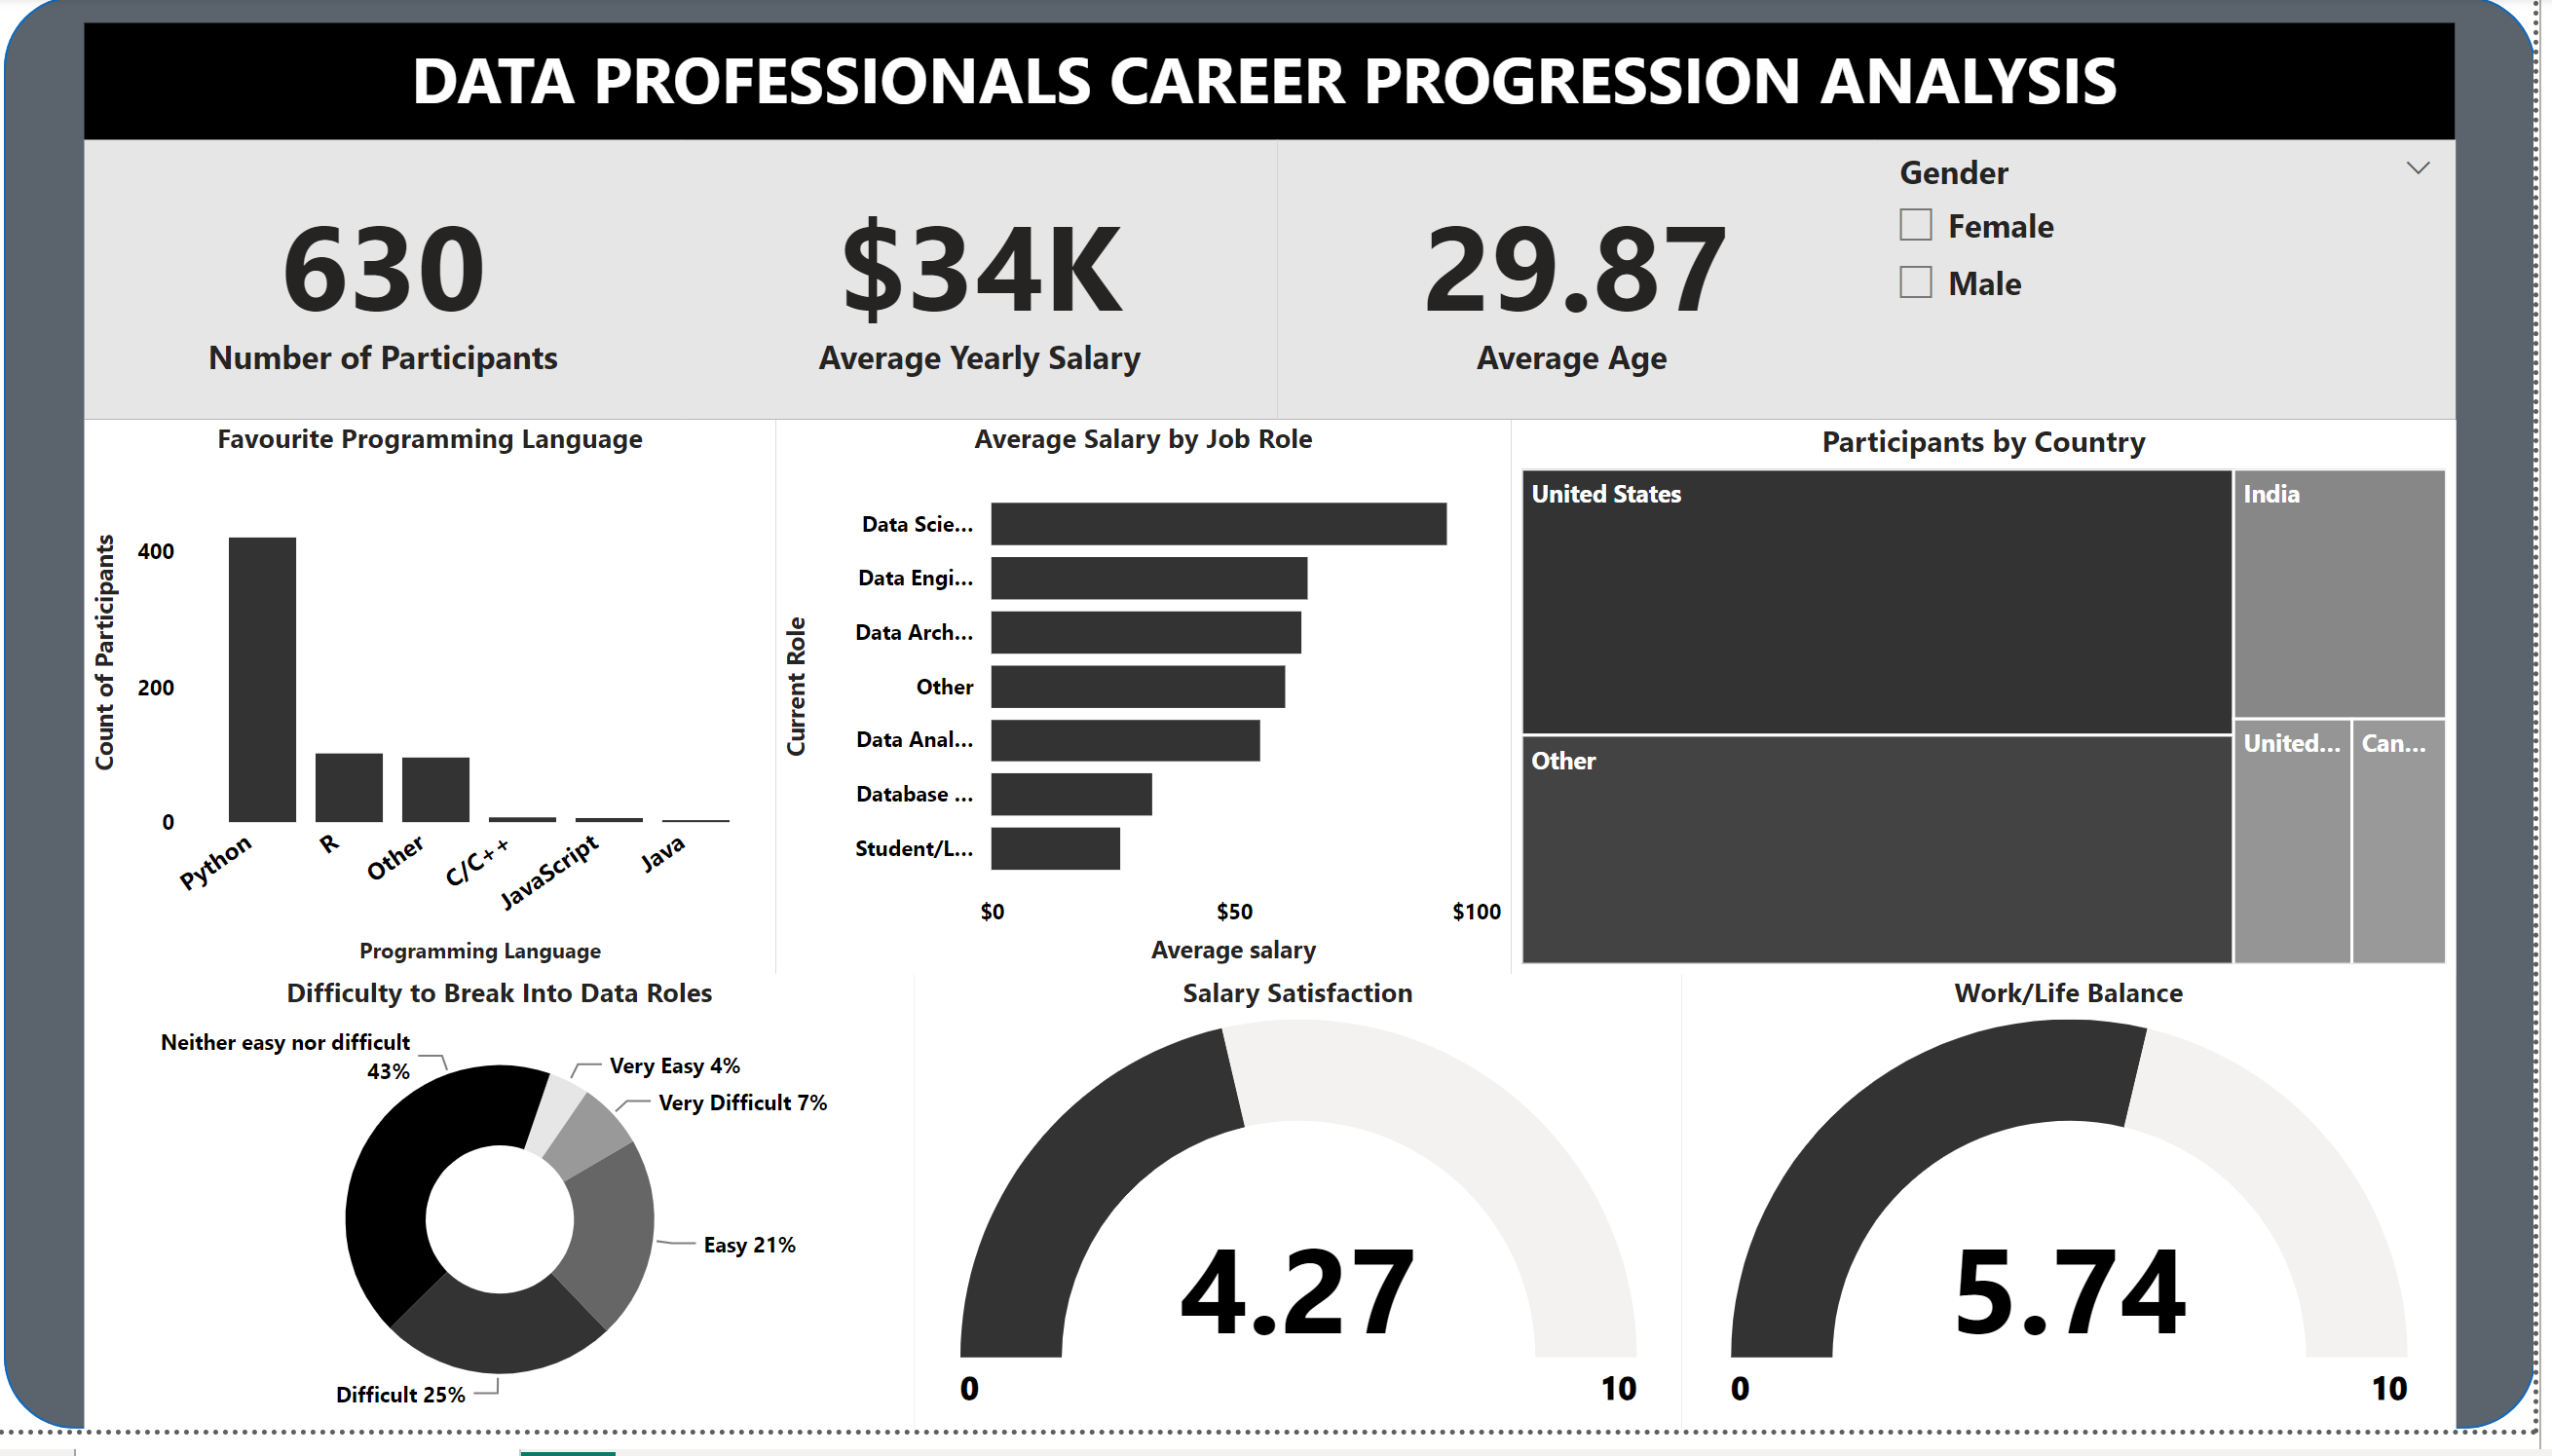

What the dashboard file says about the page in this screenshot:
{"tool":"powerbi","page":{"name":"Data Professional Analysis","canvas":[1280,720],"ordinal":0},"visuals":[{"type":"shape","box":[9.6,0,1271,719.8],"z":0},{"type":"textbox","box":[50.7,13.7,1190.1,59],"z":1000},{"type":"card","fields":{"Values":["Count(Data Professional Survey.Unique ID)"]},"box":[50.1,72.1,299.5,140.6],"z":2000},{"type":"card","fields":{"Values":["Sum(Data Professional Survey.Average salary)"]},"box":[349.6,72.1,299.5,140.6],"z":3000},{"type":"card","fields":{"Values":["Avg(Data Professional Survey.Q10 - Current Age)"]},"box":[649.1,72.1,299.5,140.6],"z":4000},{"type":"slicer","fields":{"Values":["Data Professional Survey.Q9 - Male/Female?"]},"box":[948.6,72.1,292.2,140.6],"z":5000},{"type":"treemap","title":"Participants by Country","fields":{"Values":["Count(Data Professional Survey.Unique ID)"],"Group":["Data Professional Survey.Q11 - Which Country do you live in?.1"]},"box":[766.5,212.7,474.3,278.7],"z":6000},{"type":"columnChart","title":"Favourite Programming Language","fields":{"Category":["Data Professional Survey.Q5 - Favorite Programming Language.1"],"Y":["Count(Data Professional Survey.Unique ID)"]},"box":[50.1,212.7,347.2,278.7],"z":7000},{"type":"clusteredBarChart","title":"Current Role of Participants","fields":{"Category":["Data Professional Survey.Q1 - Which Title Best Fits your Current Role?.1"],"Y":["Count(Data Professional Survey.Unique ID)"]},"box":[397.3,212.7,369.2,278.7],"z":8000},{"type":"donutChart","title":"Difficulty to Break Into Data Roles","fields":{"Category":["Data Professional Survey.Q7 - How difficult was it for you to break into Data?"],"Y":["Count(Data Professional Survey.Unique ID)"]},"box":[50.1,491.4,416.8,228.6],"z":9000},{"type":"gauge","title":"Work/Life Balance","fields":{"Y":["Avg(Data Professional Survey.Q6 - How Happy are you in your Current Position with the following? (Work/Life Balance))"],"MinValue":["Min(Data Professional Survey.Q6 - How Happy are you in your Current Position with the following? (Work/Life Balance))"],"MaxValue":["Max(Data Professional Survey.Q6 - How Happy are you in your Current Position with the following? (Work/Life Balance))"]},"box":[852,491.4,388.7,228.6],"z":10000},{"type":"gauge","title":"Salary Satisfaction","fields":{"Y":["Avg(Data Professional Survey.Q6 - How Happy are you in your Current Position with the following? (Salary))"],"MaxValue":["Max(Data Professional Survey.Q6 - How Happy are you in your Current Position with the following? (Salary))"],"MinValue":["Min(Data Professional Survey.Q6 - How Happy are you in your Current Position with the following? (Salary))"]},"box":[467,491.4,385.1,228.6],"z":11000}]}

Visuals, with their boxes in screenshot pixels (x1, y1, x2, y2), scaled from the page's 1280x720 canvas onto the 2552x1456 screenshot:
shape: 19/0/2551/1455
textbox: 101/27/2474/147
card - Count(Data Professional Survey.Unique ID): 100/146/697/430
card - Sum(Data Professional Survey.Average salary): 697/146/1295/430
card - Avg(Data Professional Survey.Q10 - Current Age): 1295/146/1892/430
slicer - Data Professional Survey.Q9 - Male/Female?: 1892/146/2474/430
"Participants by Country" treemap: 1528/430/2474/993
"Favourite Programming Language" columnChart: 100/430/792/993
"Current Role of Participants" clusteredBarChart: 792/430/1528/993
"Difficulty to Break Into Data Roles" donutChart: 100/993/931/1455
"Work/Life Balance" gauge: 1699/993/2474/1455
"Salary Satisfaction" gauge: 931/993/1699/1455
